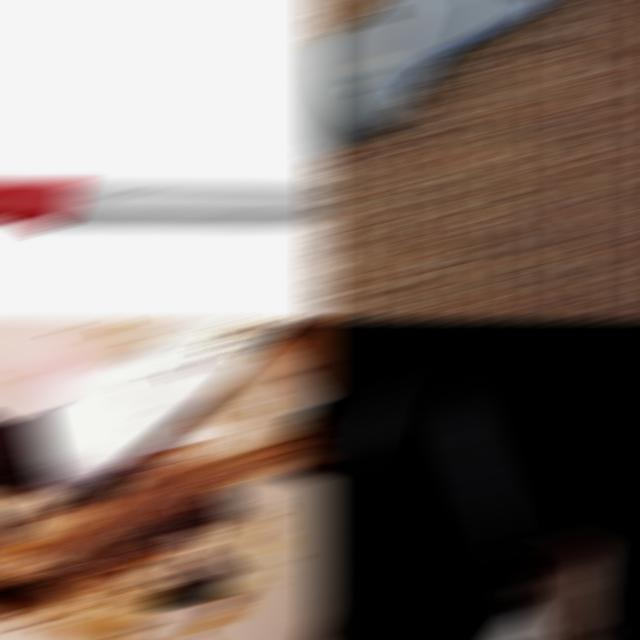Knife: (0, 183, 328, 230), (488, 606, 549, 638)
Knife_Handle: (454, 523, 622, 638)
